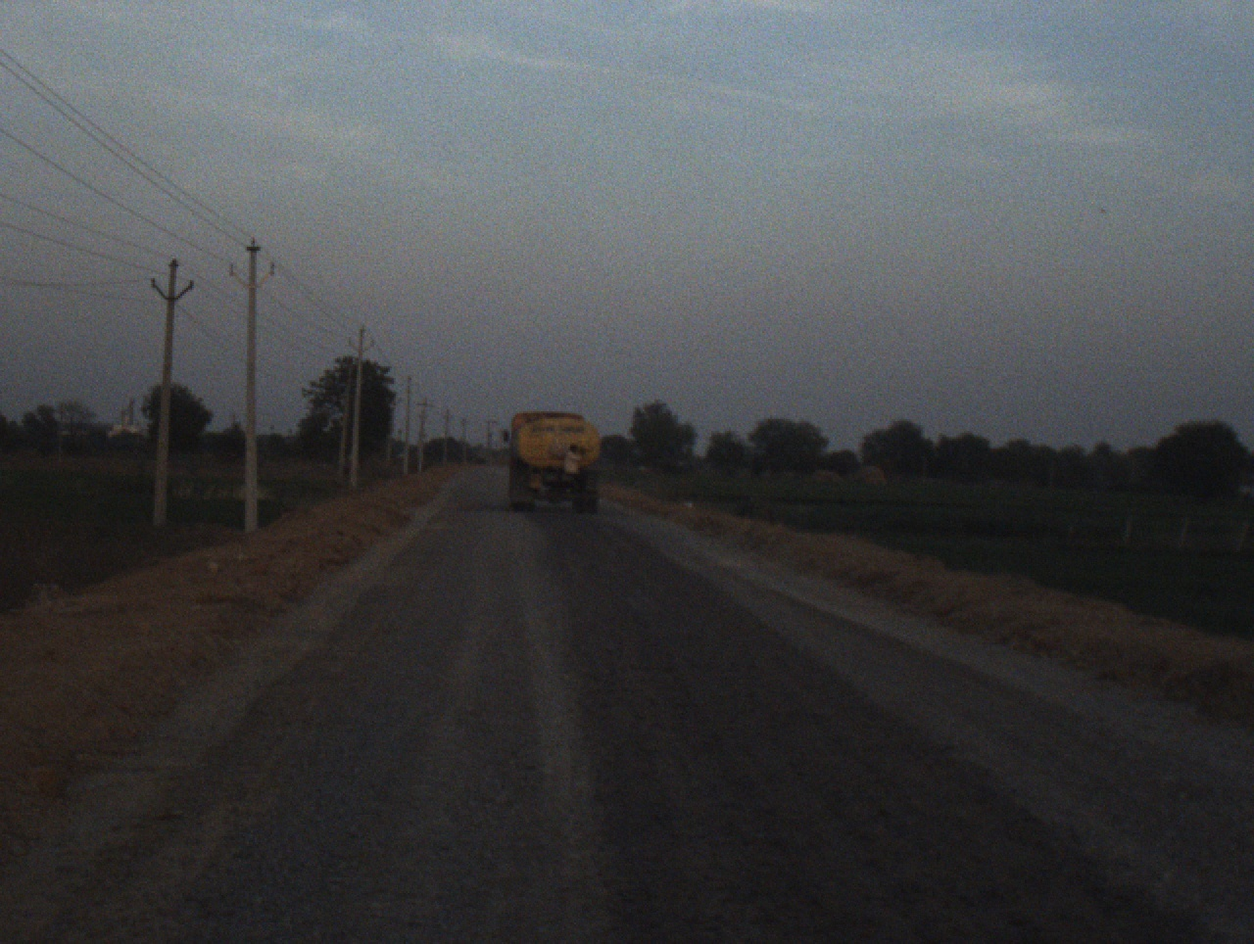rider: (561, 442, 583, 500)
truck: (494, 405, 608, 520)
